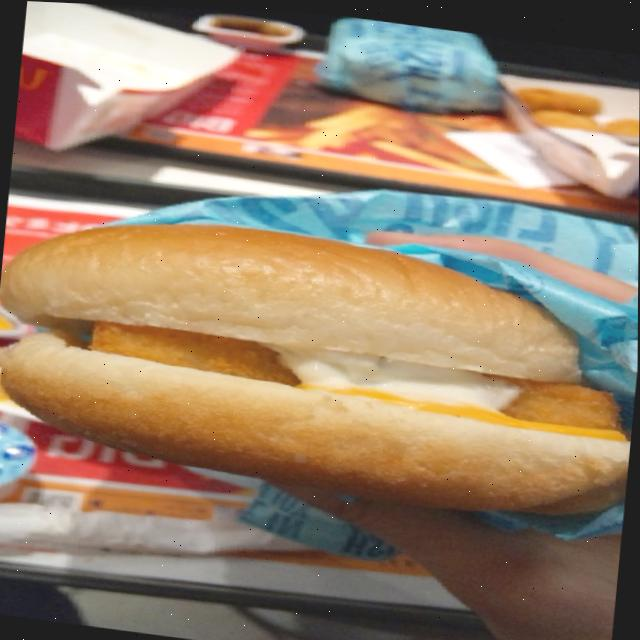汉堡快餐: (0, 195, 639, 537)
